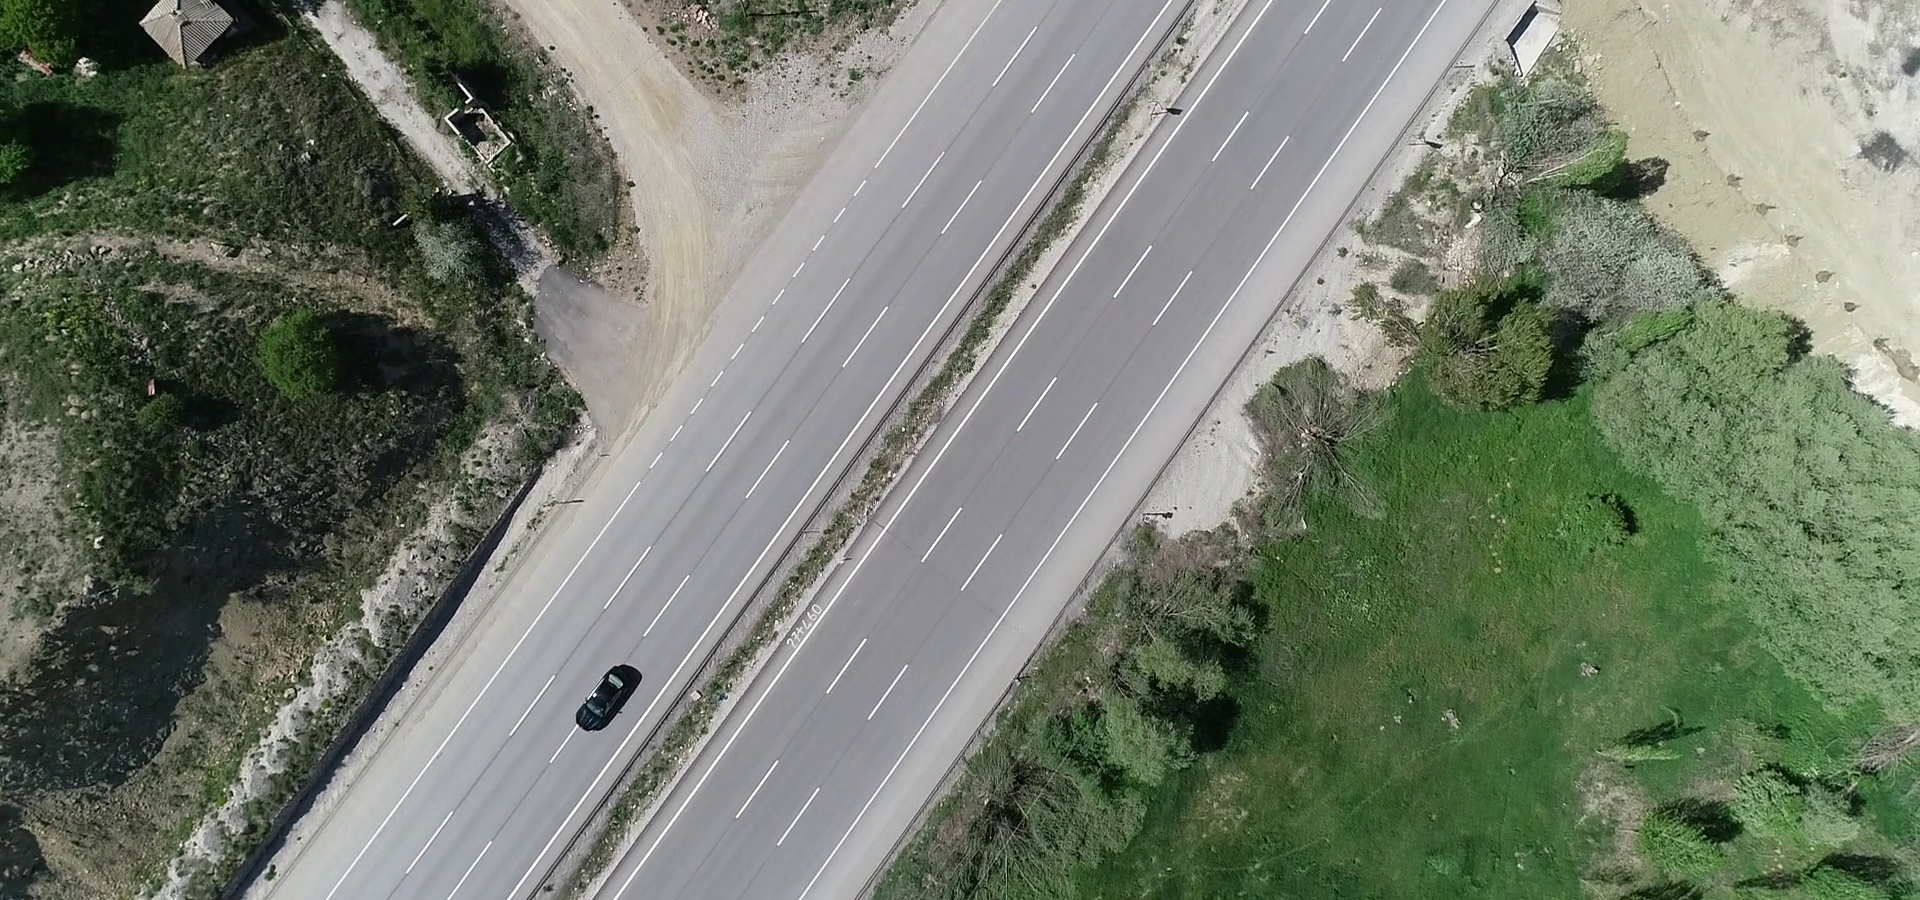araba: (553, 662, 651, 729)
